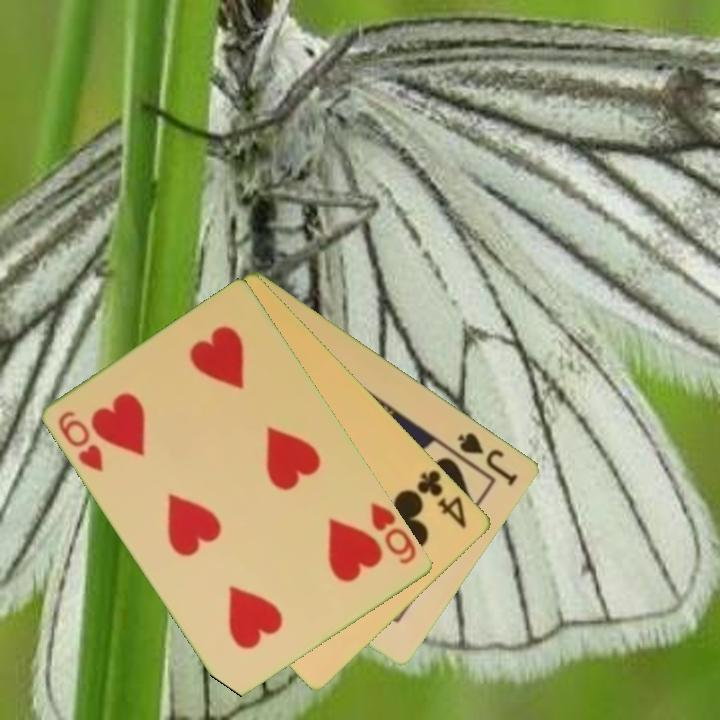4c: (414, 466, 470, 532)
6h: (367, 499, 420, 568), (55, 407, 107, 475)
Js: (454, 428, 522, 489)
